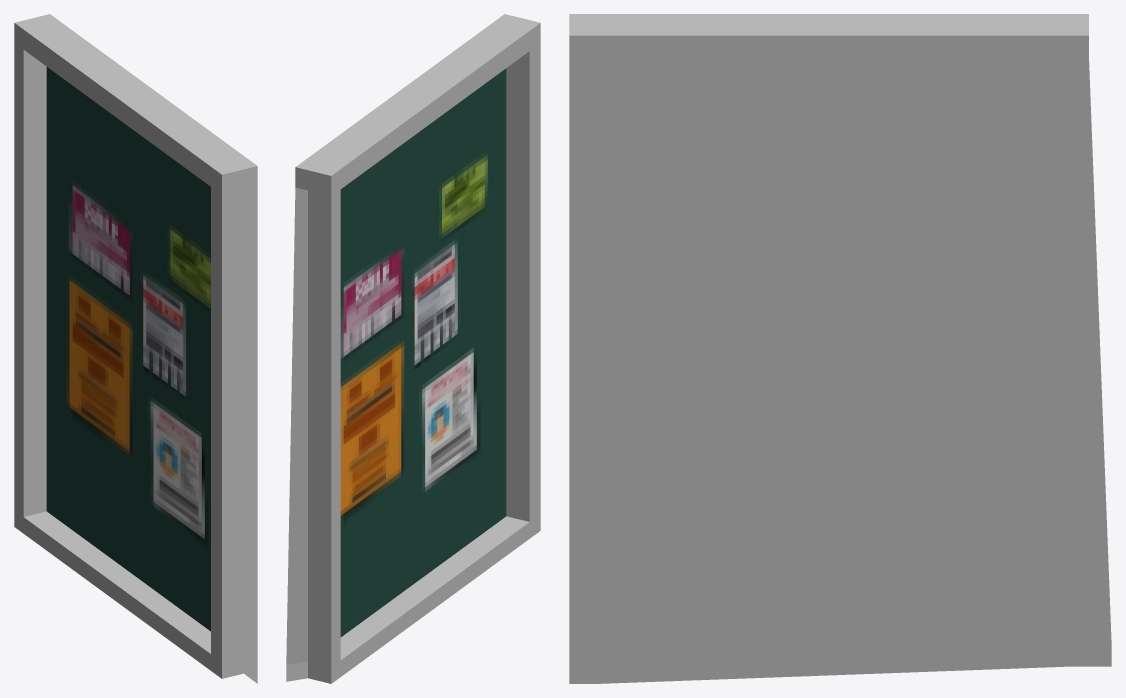
File: mading kiri.fbx
3 views of the same model, side by side, from view 1: azimuth 30°, elevation 25°; view 2: azimuth 150°, elevation 25°; view 3: azimuth 270°, elevation 25° (orthographic). The views are drawn at different scales.
Parts seen in each view (by area): view 1: Object.002; view 2: Object.002; view 3: Object.002.
Part boxes in pixels (left/top/right/bottom): Object.002: left=14, top=14, right=257, bottom=683; Object.002: left=286, top=14, right=540, bottom=683; Object.002: left=569, top=14, right=1111, bottom=683.
Bounding box in the file's own units: 9.7 × 134 × 102.
